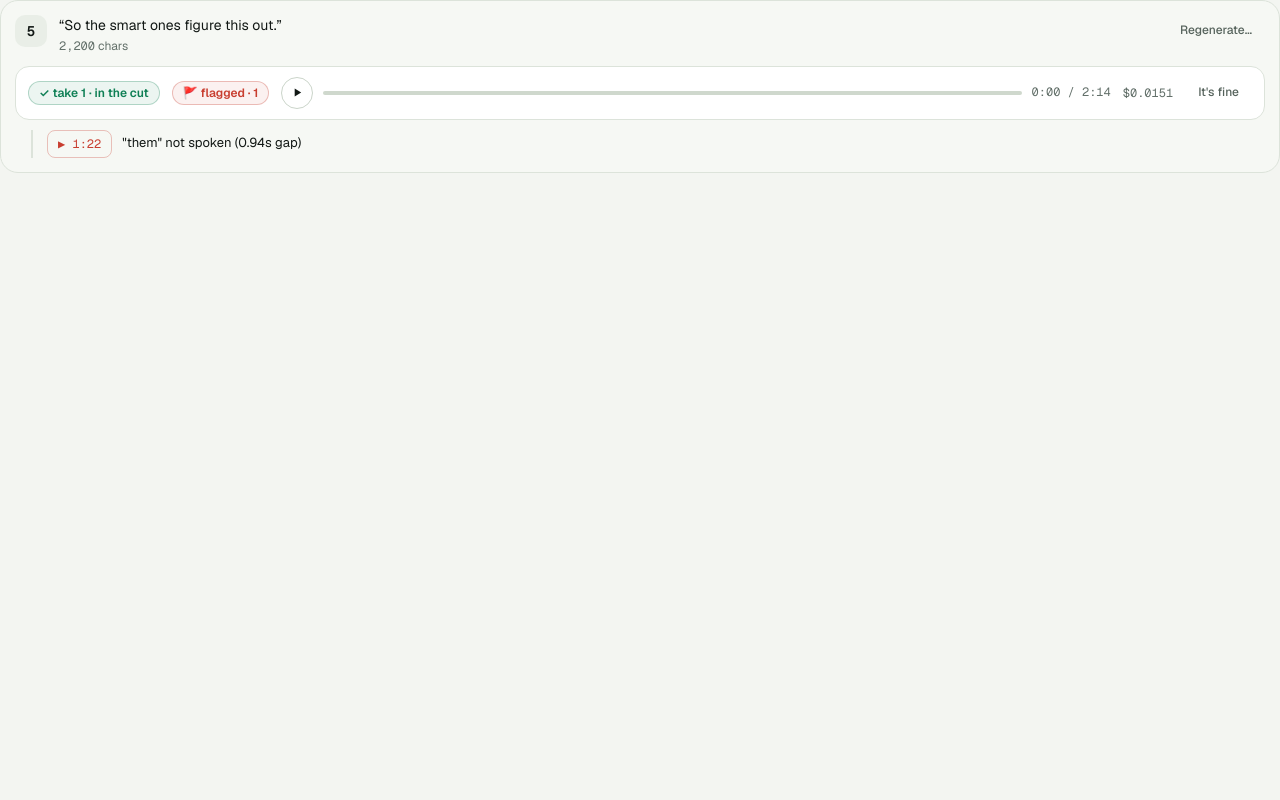
it: a flagged take says what and where › offers to regenerate a chunk that has audio
Click the button "Regenerate…" at {"x": 1216, "y": 30}, box x1=1167 y1=15 x2=1265 y2=45
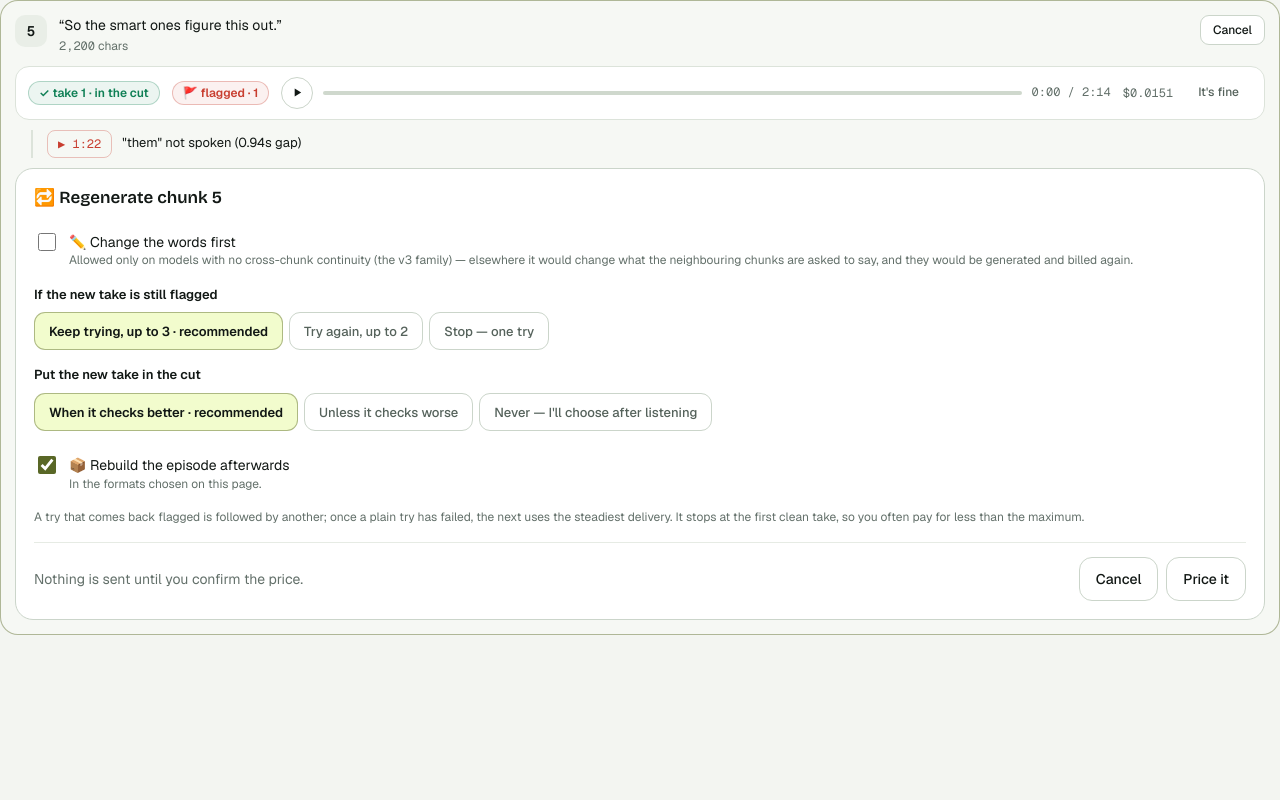
Check: the button "Price it" is shown, box x1=1166 y1=557 x2=1246 y2=601
